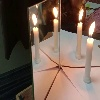fire: (88, 21, 96, 40)
